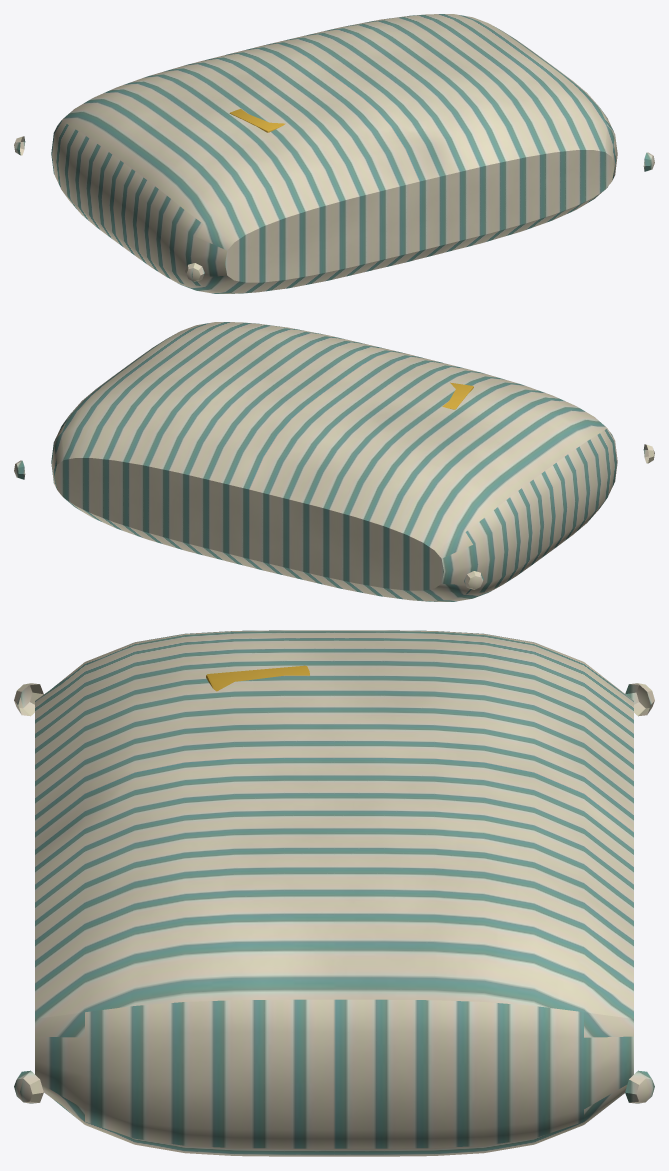
Rendered from pillow.glb.
3 renders of one model, top to bottom at view 1: azimuth 30°, elevation 25°; view 2: azimuth 150°, elevation 25°; view 3: azimuth 270°, elevation 25°, orthographic. The views are drawn at different scales.
Visible parts, largest first — view 1: PillowBody; view 2: PillowBody; view 3: PillowBody.
Part boxes in pixels (bbox=[...]): PillowBody: bbox=[14, 14, 654, 293]; PillowBody: bbox=[14, 322, 654, 601]; PillowBody: bbox=[14, 630, 654, 1156].
Bounding box in the file's own units: 0.7301 × 0.23 × 0.4921.
2 materials, 2 textured.
